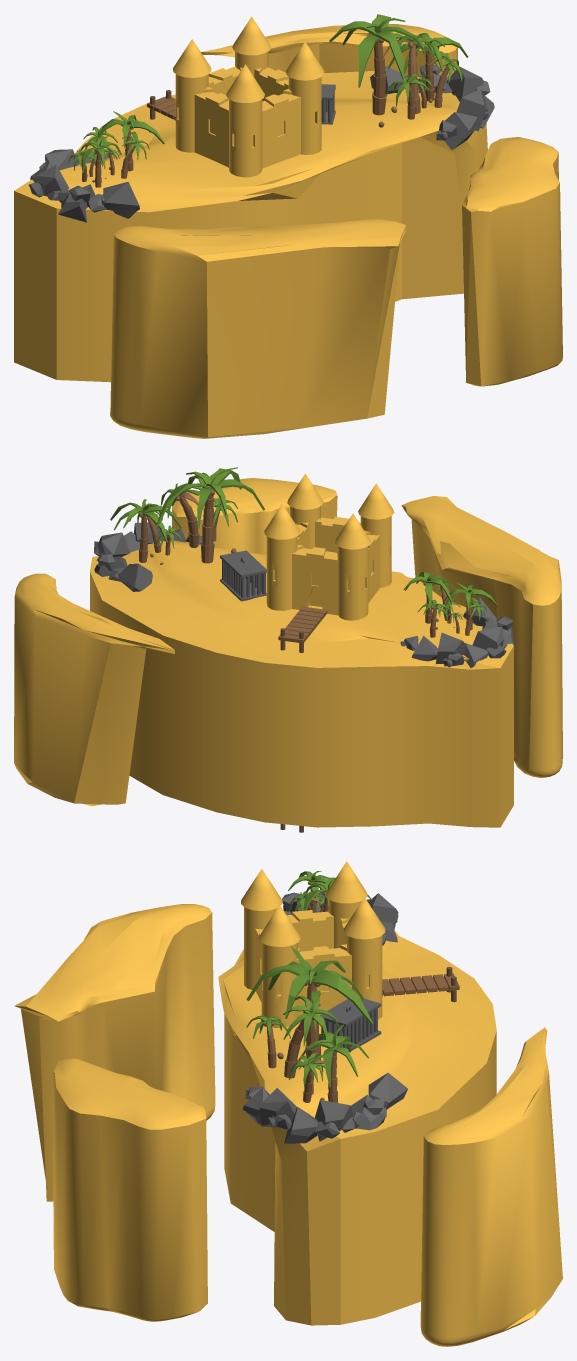
The picture shows the model from 3 angles, top to bottom: view 1: azimuth 30°, elevation 25°; view 2: azimuth 150°, elevation 25°; view 3: azimuth 270°, elevation 25°; orthographic projection. The views are drawn at different scales.
Visible parts, largest first — view 1: Icosphere.007; view 2: Icosphere.007; view 3: Icosphere.007.
Boxes of the visible parts, left/top/right/bottom form: Icosphere.007: left=14, top=14, right=562, bottom=438; Icosphere.007: left=14, top=467, right=562, bottom=832; Icosphere.007: left=14, top=861, right=562, bottom=1346.
Bounding box in the file's own units: 8.37 × 5.15 × 7.64.
